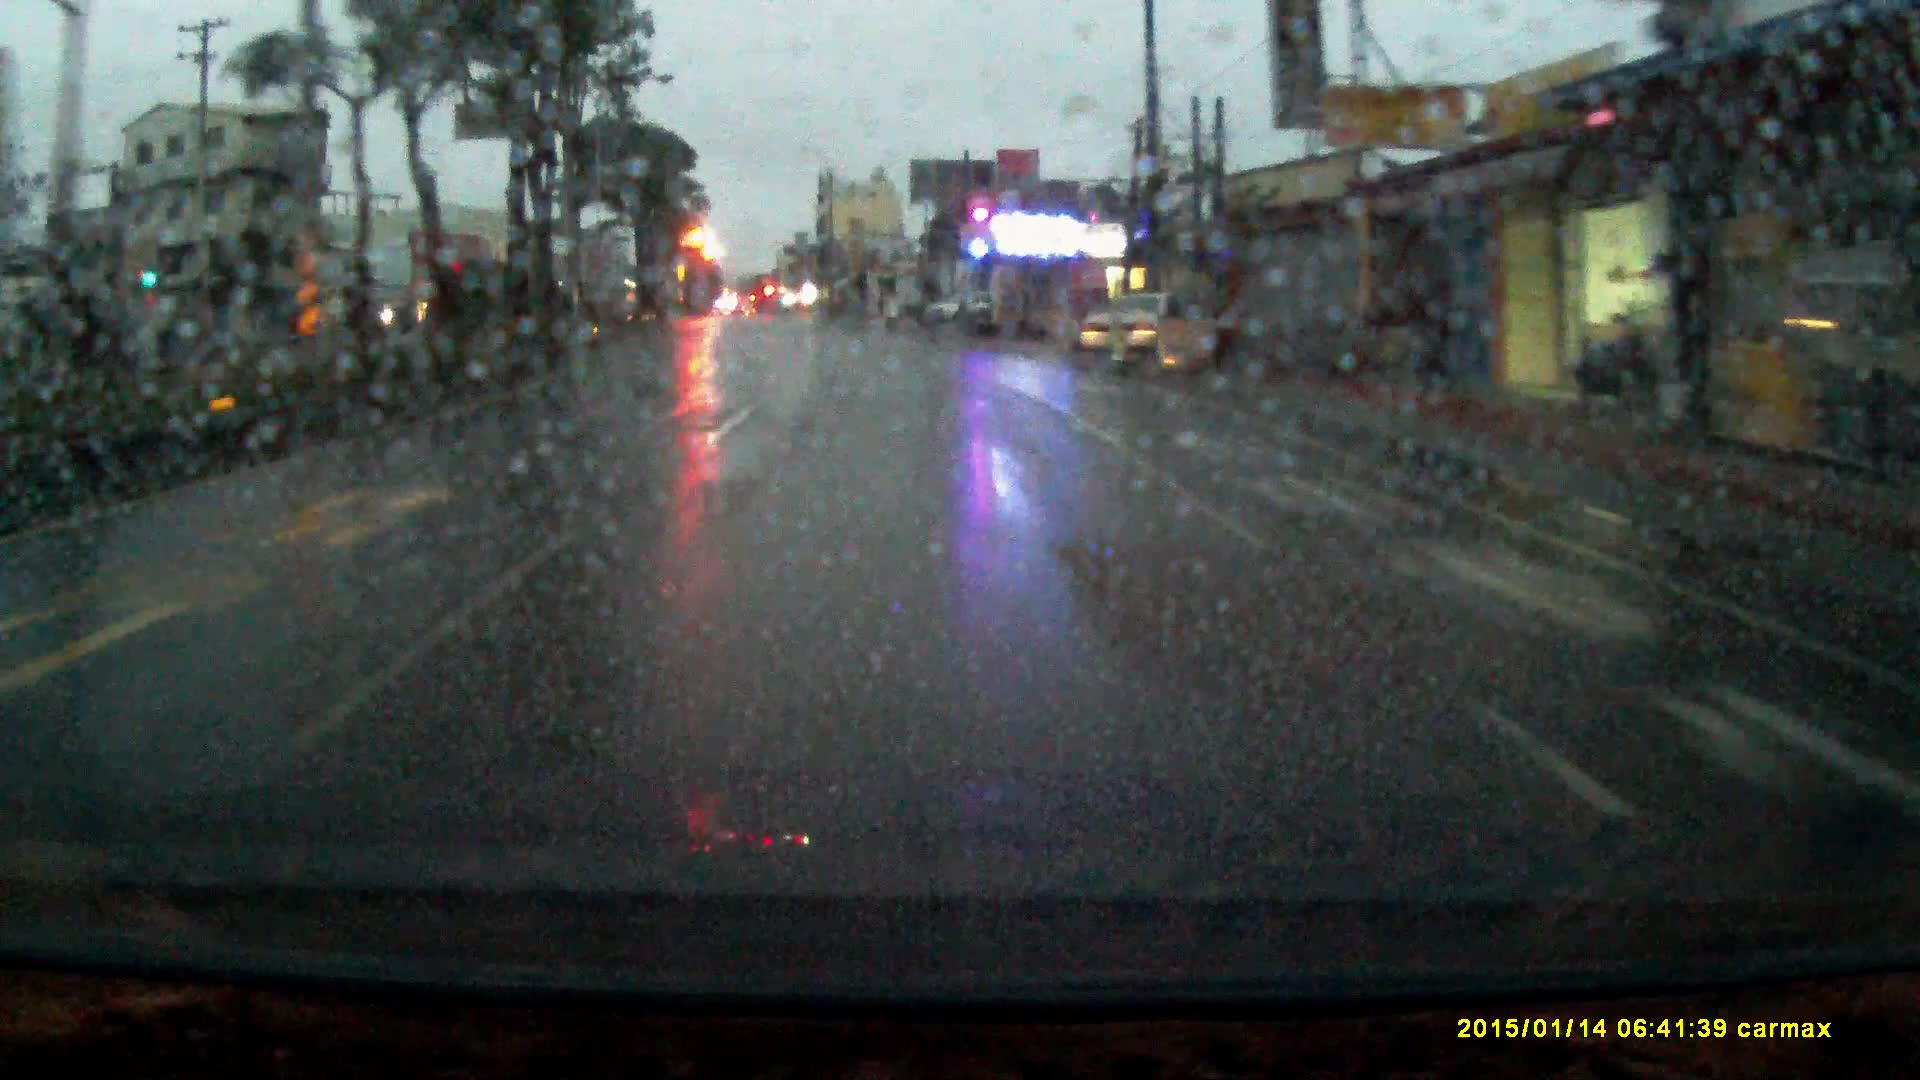vehicle: (1085, 291, 1221, 377), (924, 287, 998, 327)
